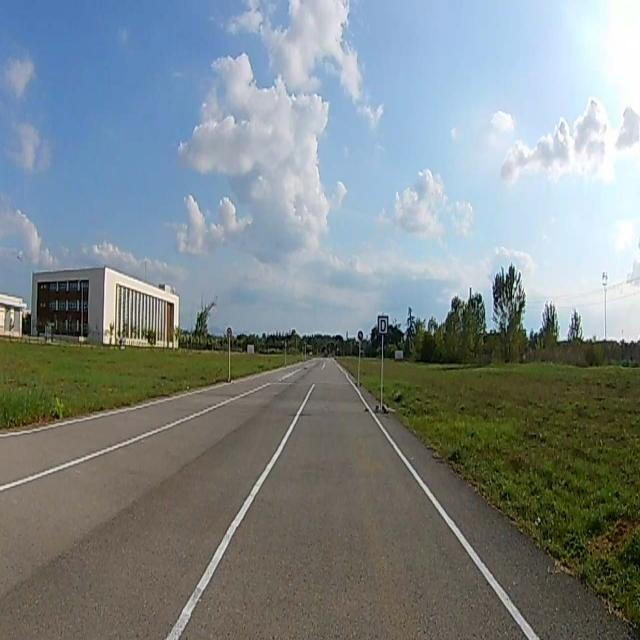durak: (376, 316, 389, 336)
